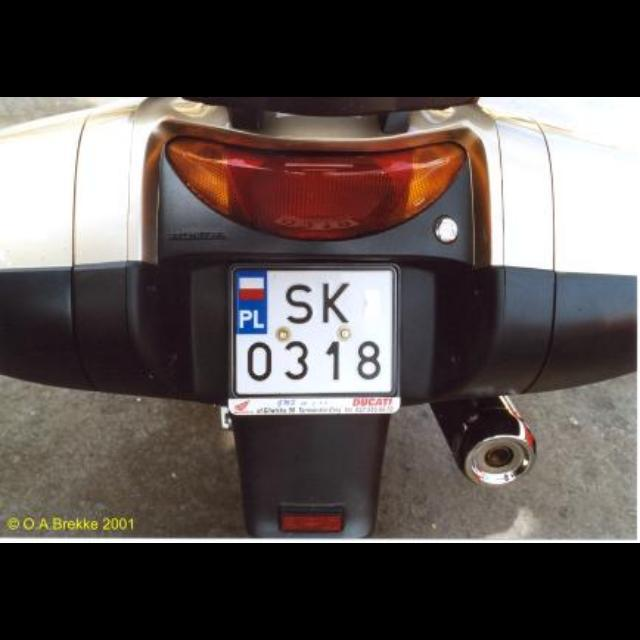license-plates: (232, 267, 398, 396)
